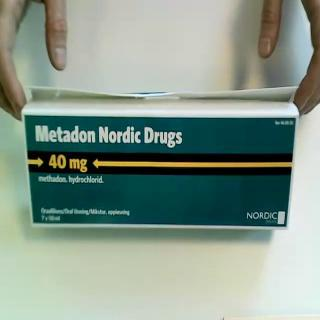metadon_hydrochlorid40mg: (19, 85, 301, 235)
